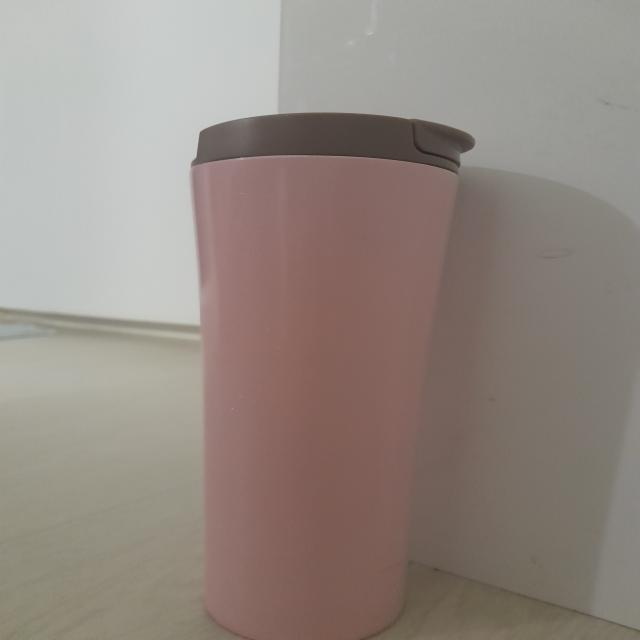waterbottle: (195, 114, 477, 636)
